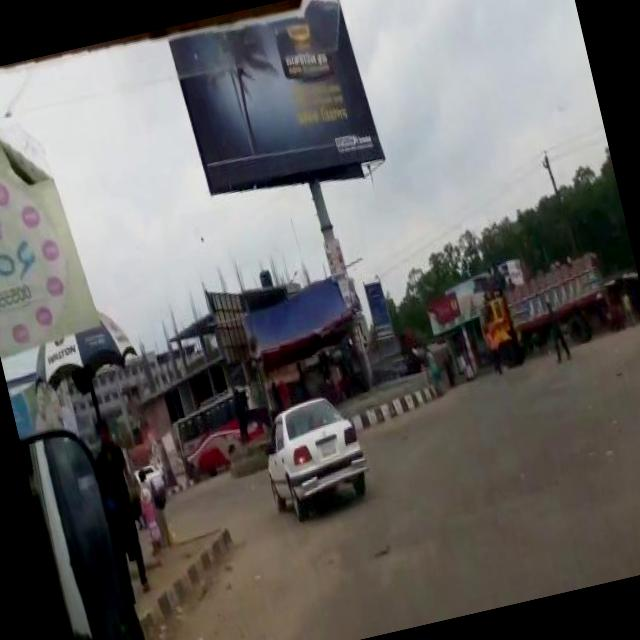bus: (163, 376, 276, 492)
car: (248, 387, 376, 531)
truck: (467, 243, 620, 372)
